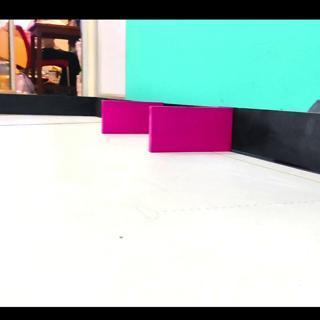xparking: (151, 108, 231, 154), (102, 102, 149, 134)
